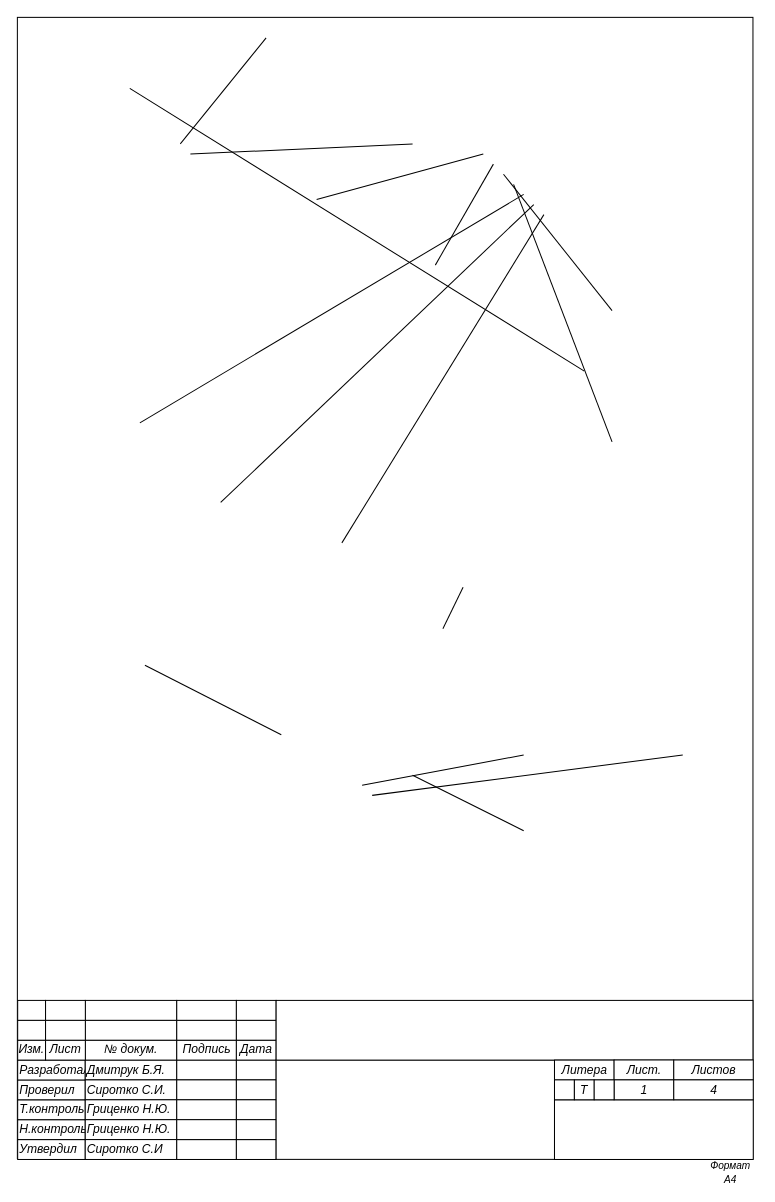
Some shapes in this 775 by 1202 pixel diagram are drawn without their labels. Here are the shapes that lost their labels. From the top down, the box of each, then its label:
(275, 999, 753, 1060): ГУИР.253504-01 СА
(275, 1059, 554, 1159): Блок схема алгоритма, реализующего программное средство. Схема алгоритма
(553, 1099, 753, 1159): Кафедра информатики, гр. 253504
